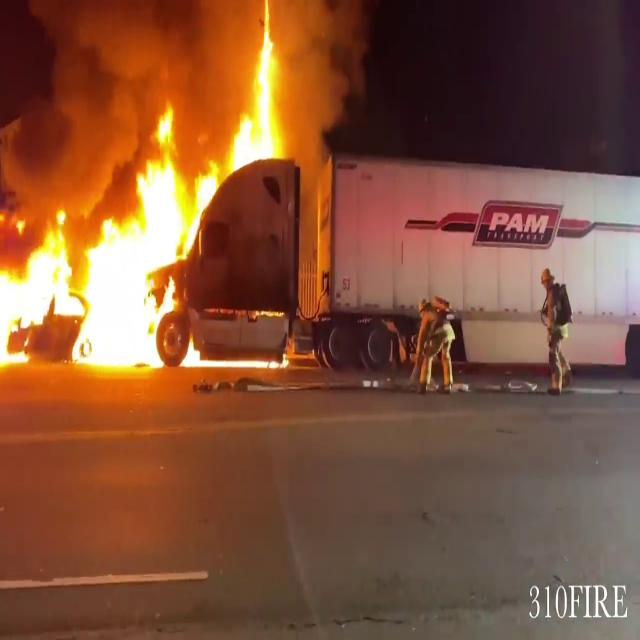Fire: (0, 99, 212, 376), (229, 2, 289, 180)
